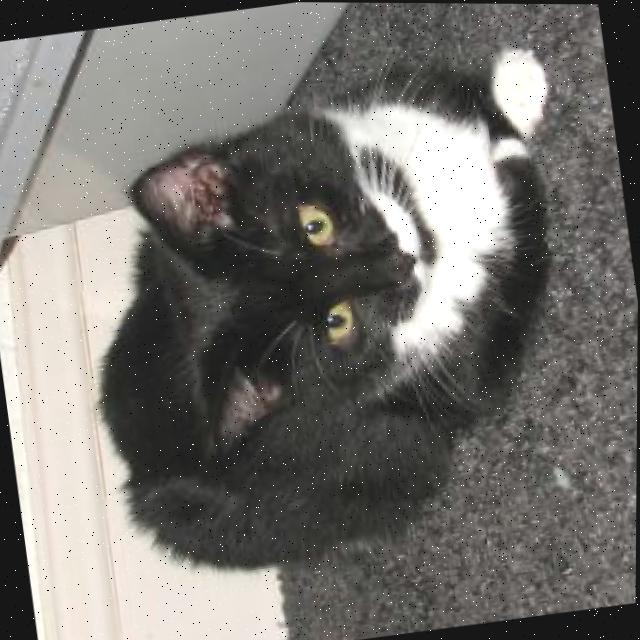Tuxedo: (49, 37, 617, 594)
